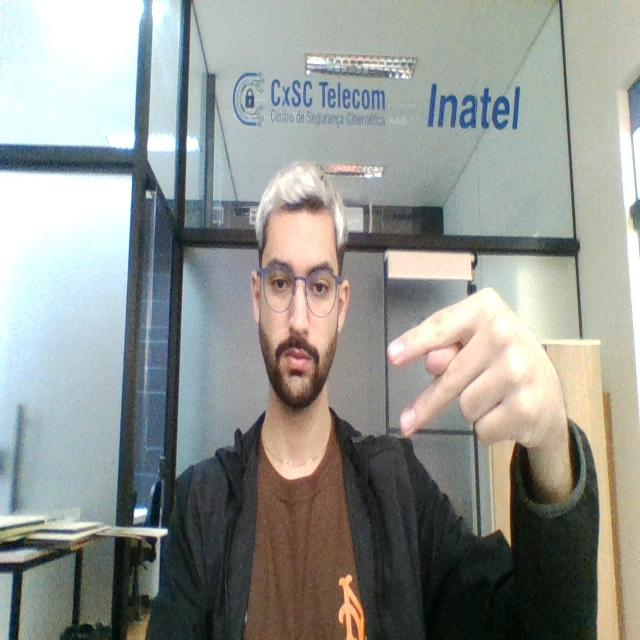P: (381, 277, 565, 466)
